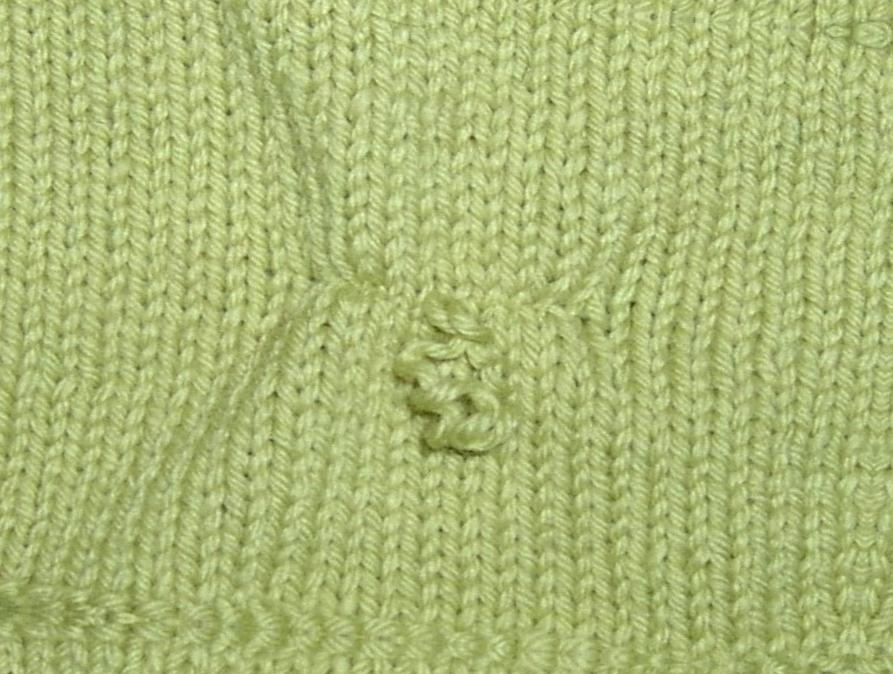knot: (389, 288, 527, 460)
